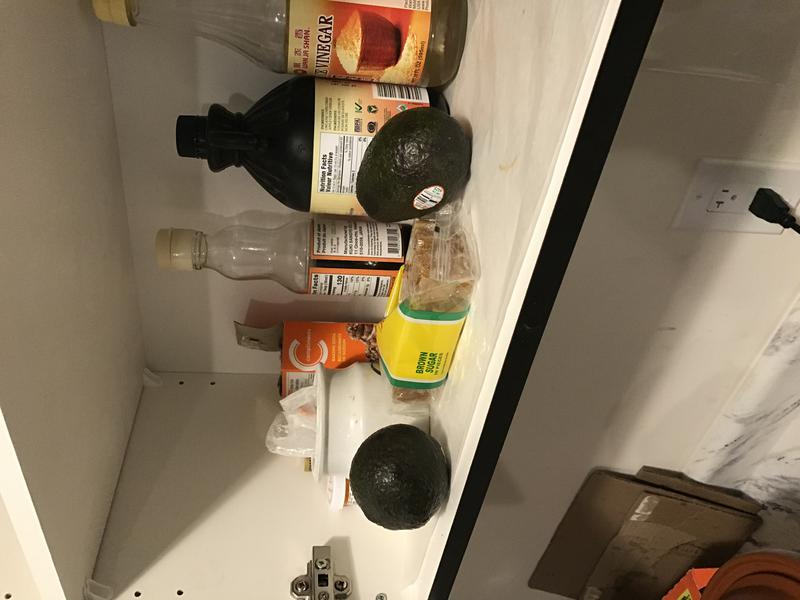avacado: (350, 104, 480, 230), (346, 420, 453, 536)
